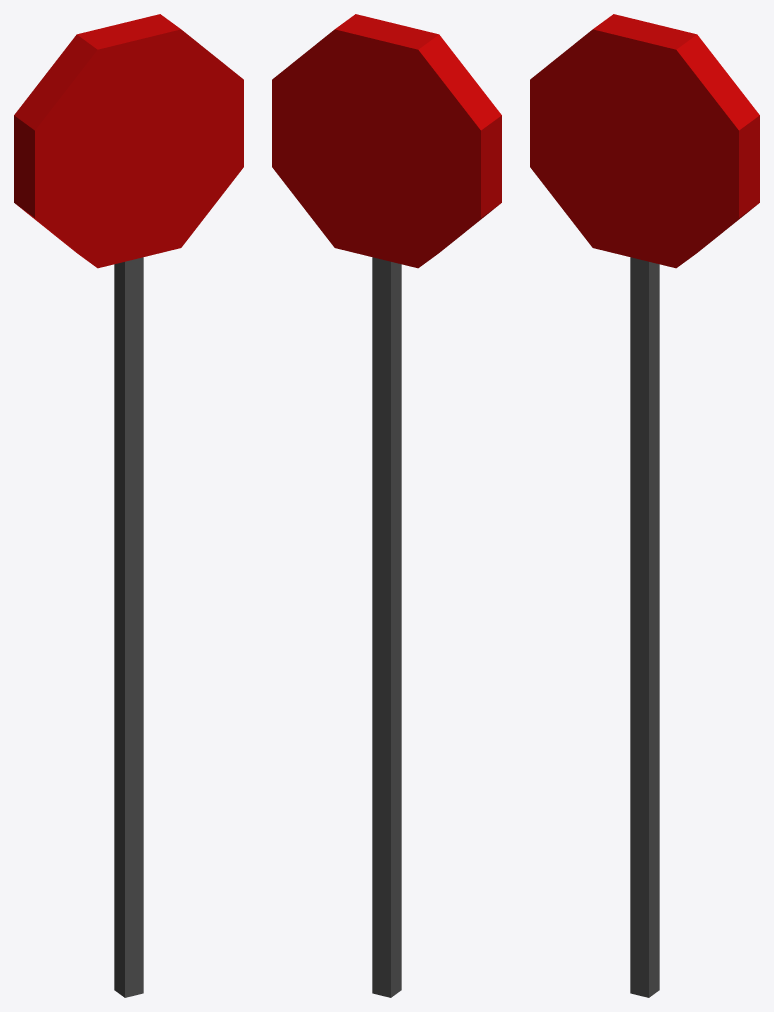
File: stopsign.fbx
3 renders of one model, left to right at view 1: azimuth 30°, elevation 25°; view 2: azimuth 150°, elevation 25°; view 3: azimuth 330°, elevation 25°, orthographic.
Parts seen in each view (by area): view 1: pCube2, pCube1; view 2: pCube2, pCube1; view 3: pCube2, pCube1.
Boxes of the visible parts, bbox=[...] form: pCube2: bbox=[14, 14, 243, 268]; pCube1: bbox=[114, 257, 143, 997]; pCube2: bbox=[272, 14, 501, 268]; pCube1: bbox=[372, 257, 401, 997]; pCube2: bbox=[530, 14, 759, 268]; pCube1: bbox=[630, 257, 659, 997].
Bounding box in the file's own units: 4.31 × 18.9 × 0.7483.
